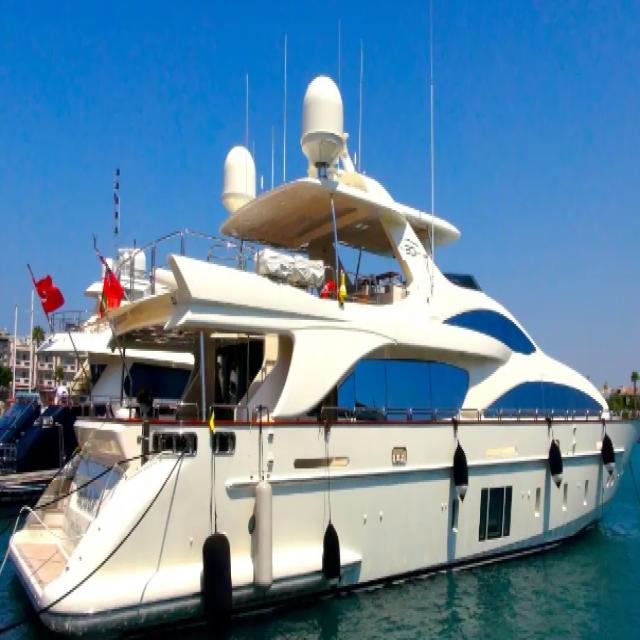houseboat: (13, 111, 640, 632)
